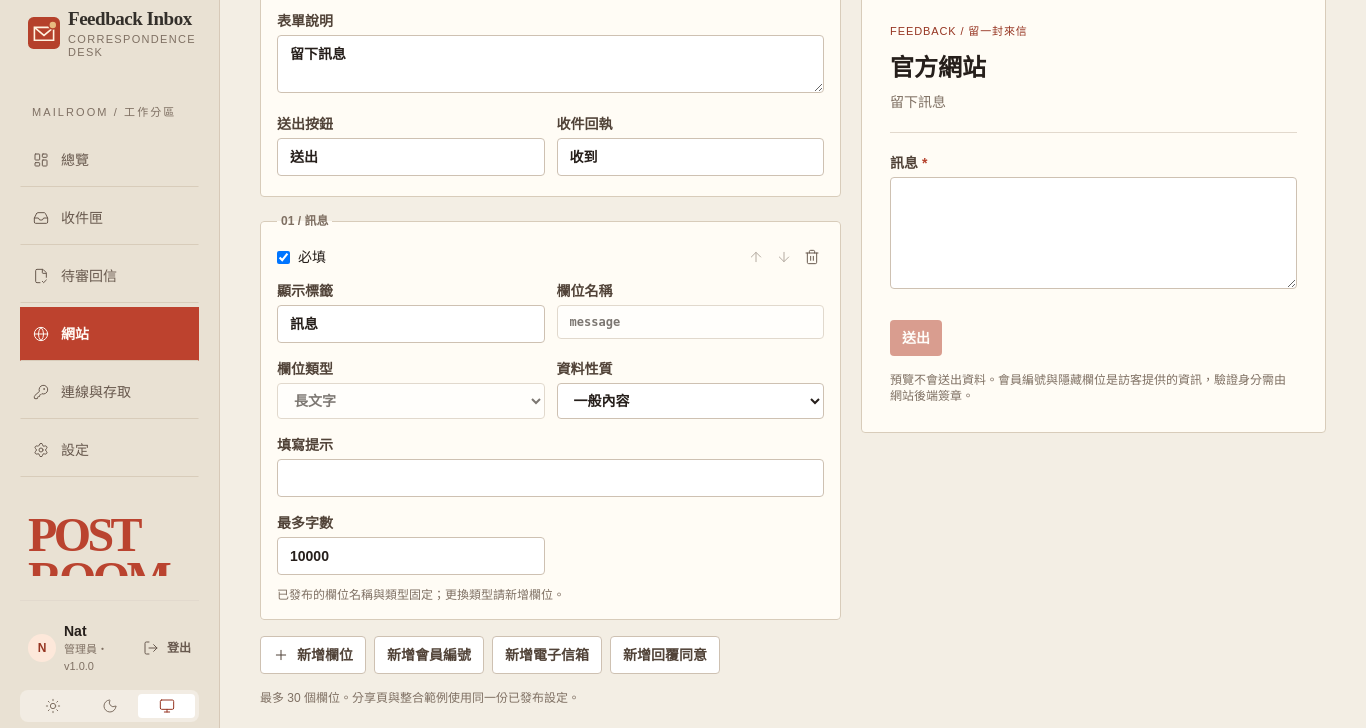
Test: adds a required member field and publishes the exact edited schema
(page scrolled)
Click the button "新增會員編號": click(429, 655) 374,636 -> 484,674
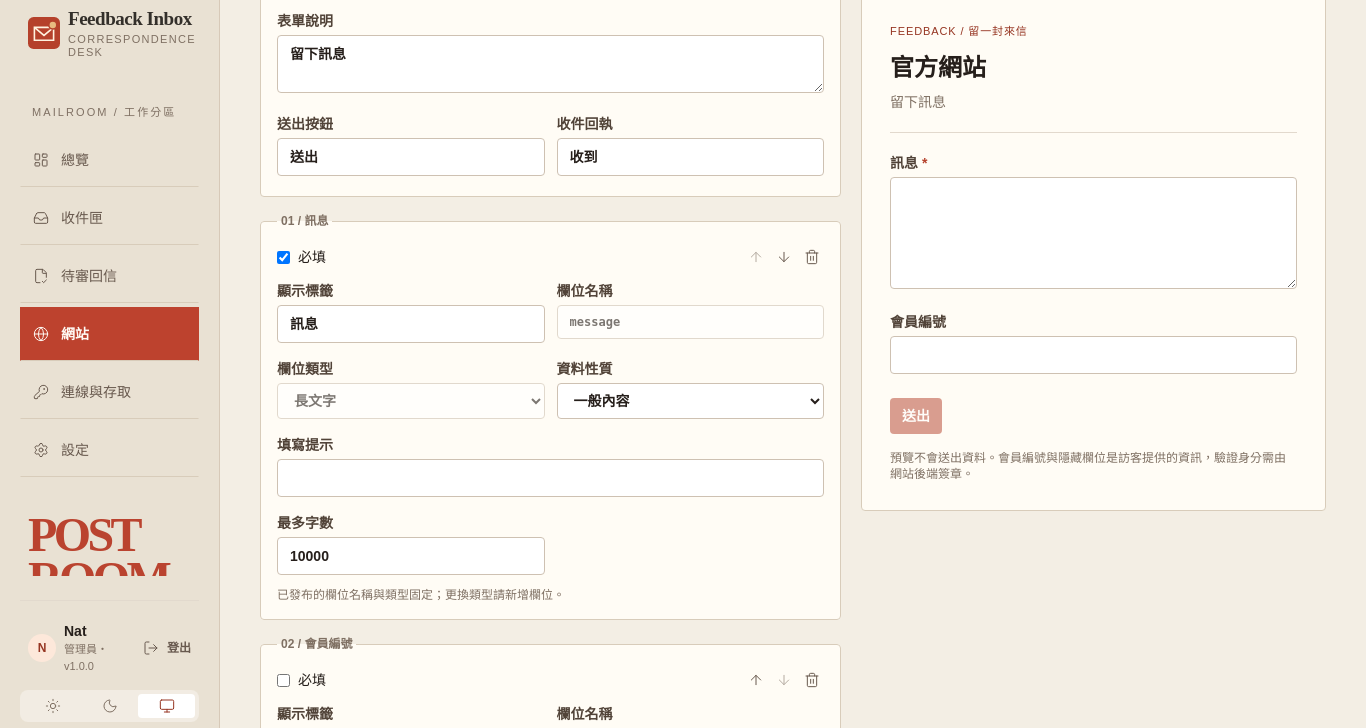
Click the checkbox labelled "必填" below "02": click(284, 680) 277,674 -> 290,686
(page scrolled)
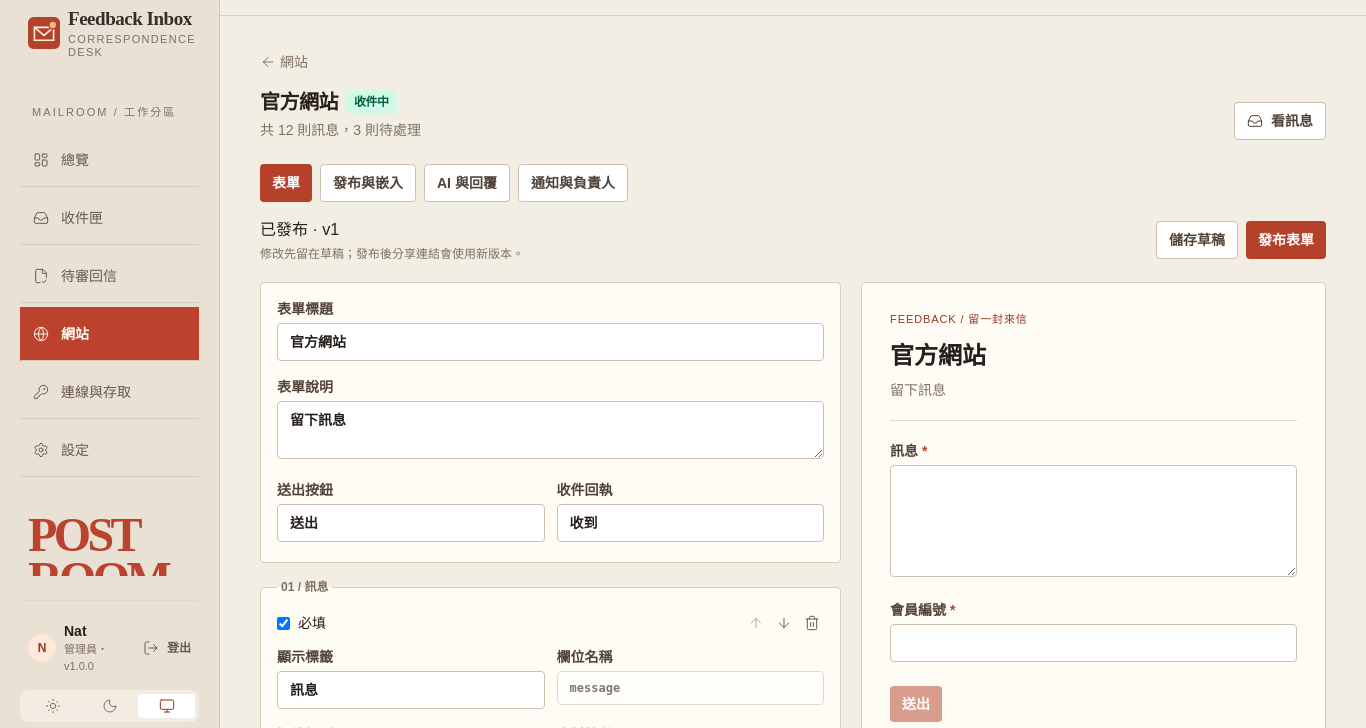
Click the button "發布表單": click(1286, 240) 1246,221 -> 1326,259
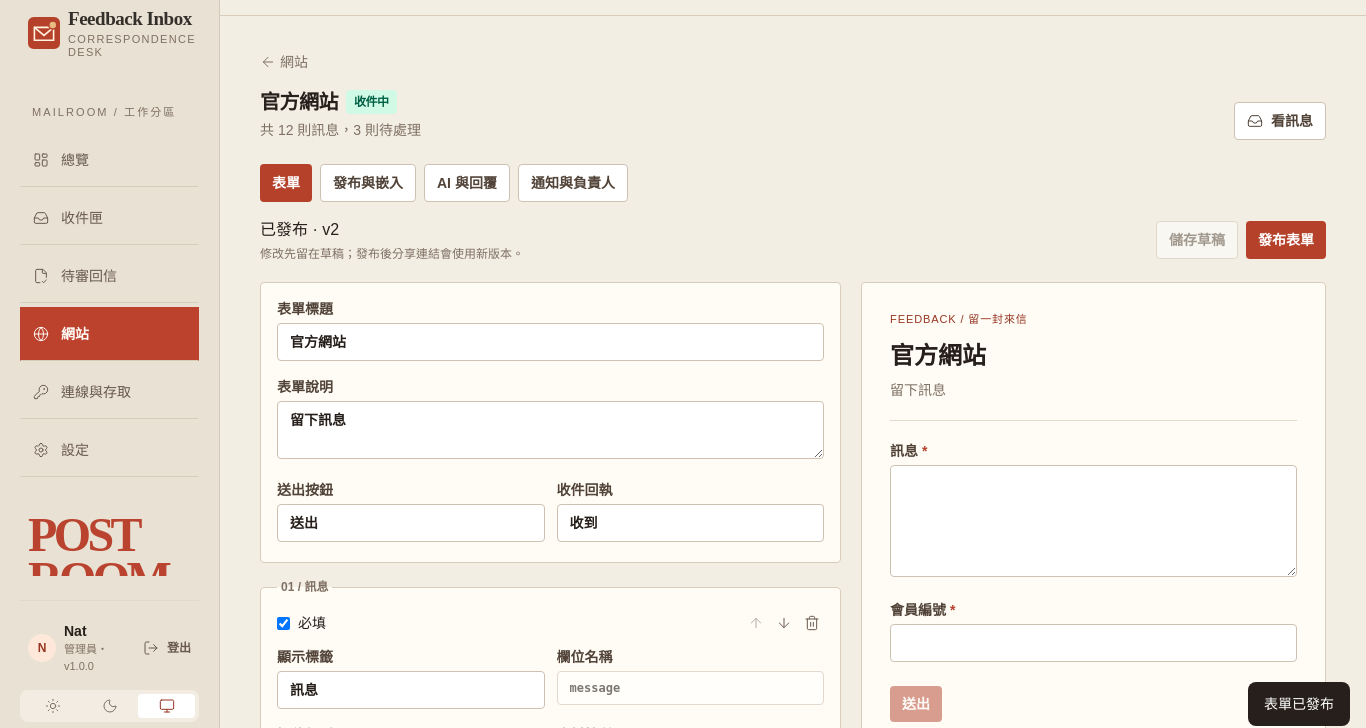
Check: the text "已發布 · v2" is shown, box 260,221 -> 339,238
